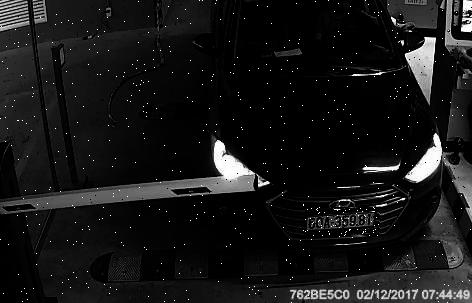License-plate: (307, 209, 382, 238)
